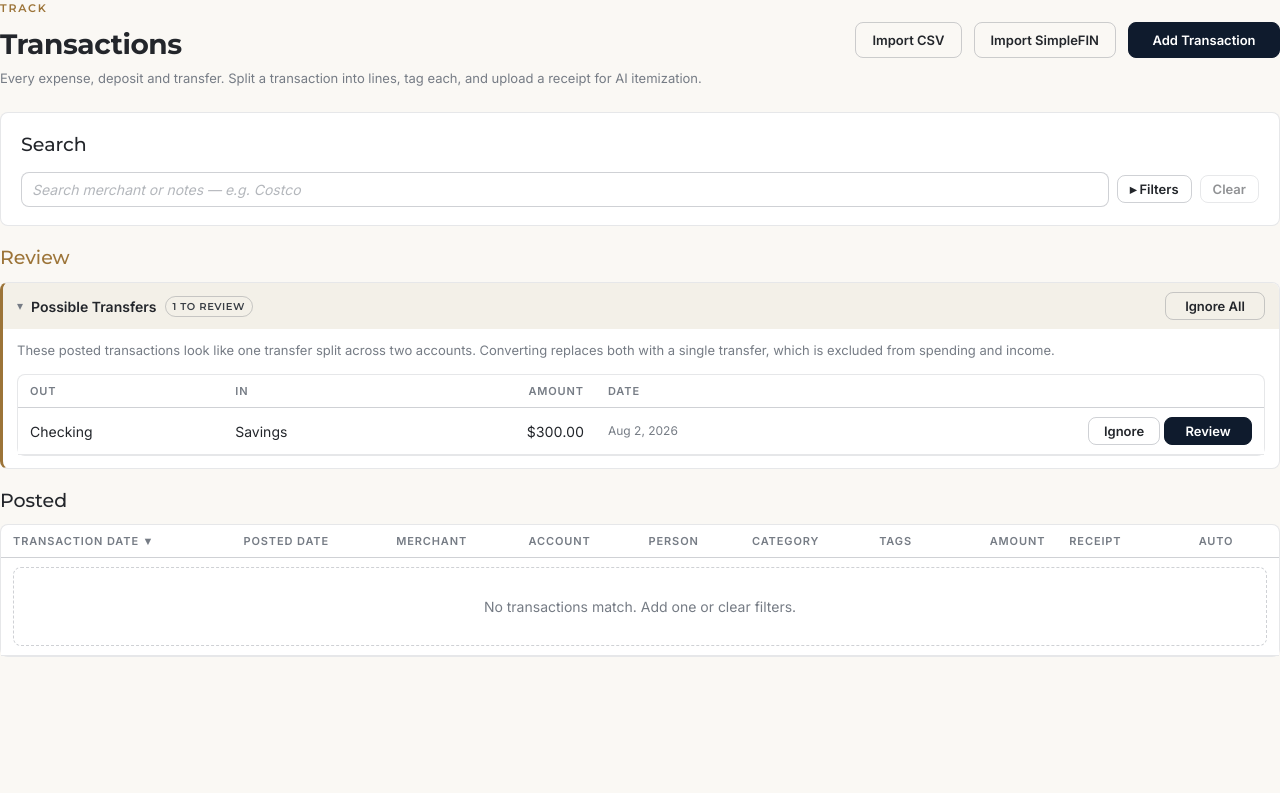
Scenario: Transactions review section › lists posted transfer candidates and explains one when expanded
This screenshot has width=1280, height=793.
expect the text "Possible Transfers" is shown: met, box [31,296,156,316]
expect the text "1 to review" is shown: met, box [164,296,253,316]
Click the text "$300.00": {"x": 500, "y": 431} [404,408,596,454]
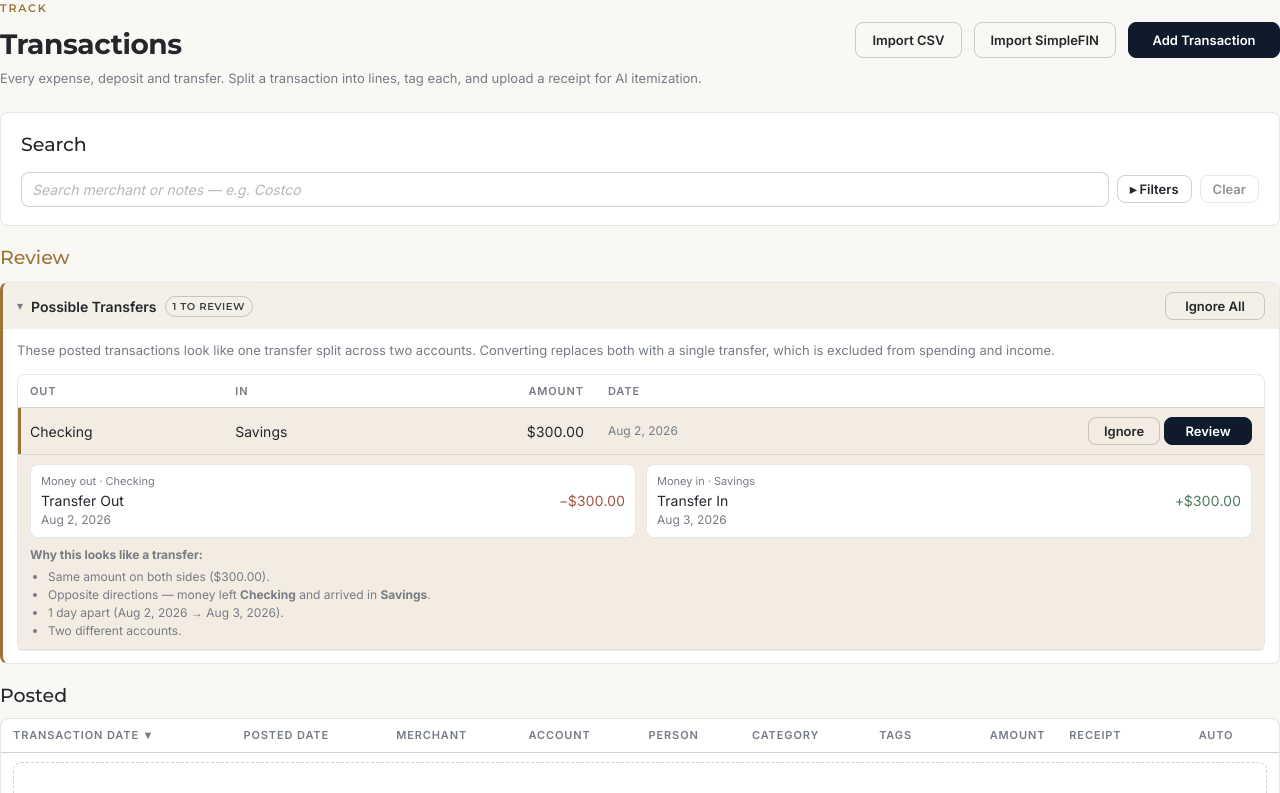
expect the text "Why this looks like a transfer:" is shown: met, box [30,546,203,562]
expect the list item "Same amount on both sides ($300.00)." is shown: met, box [48,568,270,584]
expect the list item "1 day apart (Aug 2, 2026 → Aug 3, 2026)." is shown: met, box [48,604,284,620]
Clicking the same row again collapses it.
Click the text "$300.00": {"x": 500, "y": 431} [404,408,596,454]
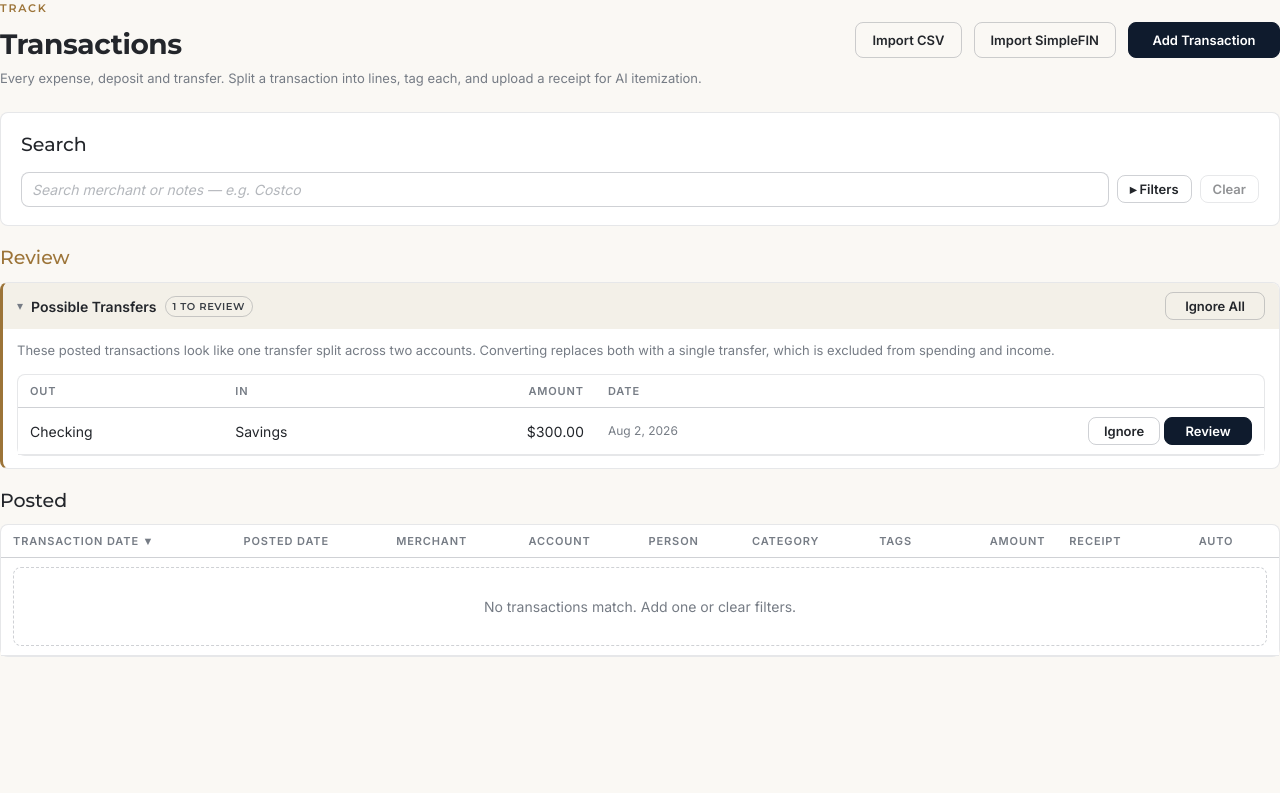
expect the text "Why this looks like a transfer:" is gone: met
